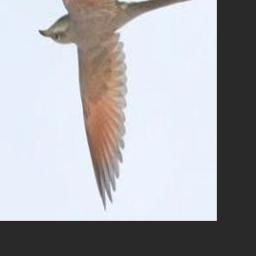Cuckoo: (38, 0, 197, 210)
